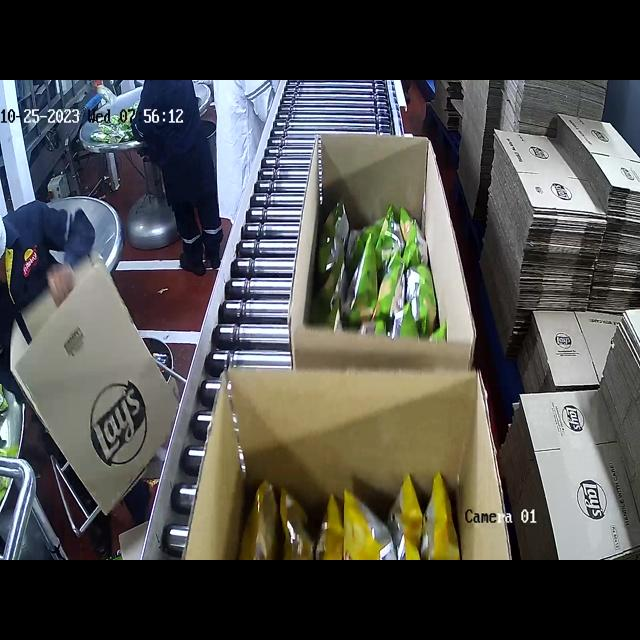salted: (239, 441, 487, 560)
yogurt: (316, 197, 440, 349)
